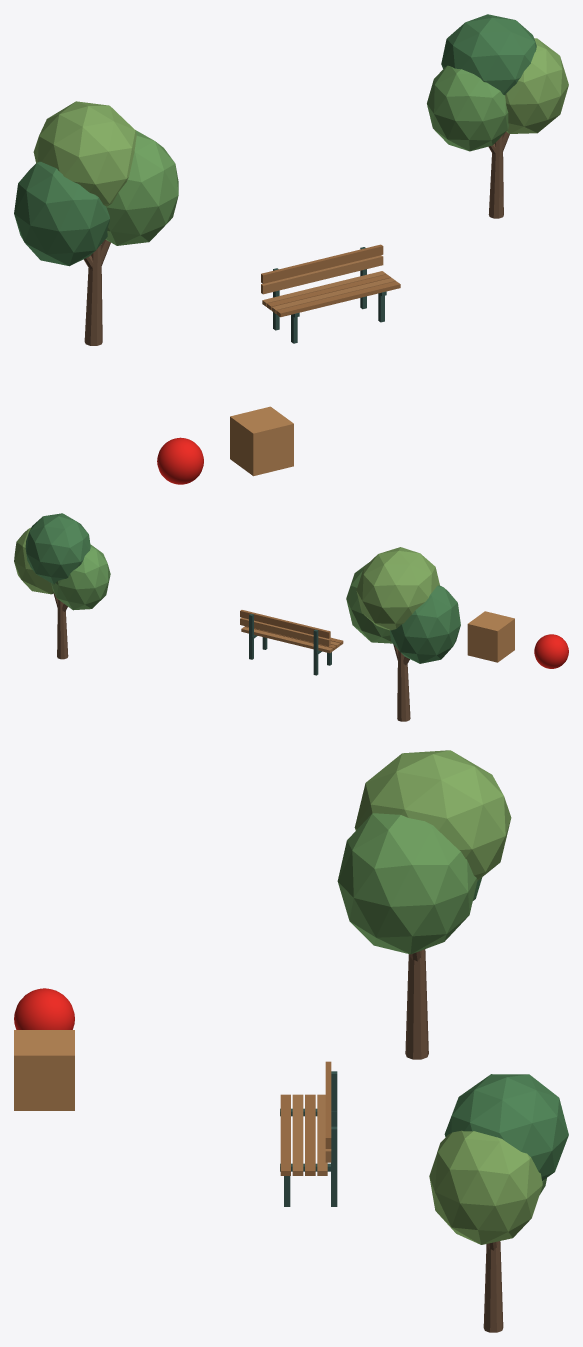
The picture shows the model from 3 angles, top to bottom: view 1: azimuth 30°, elevation 25°; view 2: azimuth 150°, elevation 25°; view 3: azimuth 270°, elevation 25°; orthographic projection. The views are drawn at different scales.
Visible parts, largest first — view 1: Grove | leaf crown.002, Grove | leaf crown, Grove | leaf crown.001, Grove | leaf crown.003, Grove | leaf crown.005, Grove | leaf crown.004, Ramp, Ball, Grove | tapered limb, Bench | back slat.001, Bench | back slat, Bench | seat slat (+4 smaller); view 2: Grove | leaf crown.002, Grove | leaf crown, Grove | leaf crown.005, Grove | leaf crown.003, Ramp, Grove | leaf crown.001, Grove | leaf crown.004, Ball, Grove | tapered limb, Bench | back slat.001, Bench | back slat, Grove | tapered limb.003 (+1 smaller); view 3: Grove | leaf crown.001, Grove | leaf crown.002, Grove | leaf crown.004, Grove | leaf crown.005, Ramp, Grove | tapered limb, Ball, Grove | tapered limb.003, Bench | seat slat.001, Bench | seat slat.002, Bench | seat slat, Bench | seat slat.003.
Part boxes in pixels (x1,y1,x2,y2): Grove | leaf crown.002: [33, 101, 136, 206]; Grove | leaf crown: [14, 161, 109, 266]; Grove | leaf crown.001: [105, 130, 178, 245]; Grove | leaf crown.003: [427, 65, 508, 151]; Grove | leaf crown.005: [441, 14, 536, 95]; Grove | leaf crown.004: [505, 38, 568, 133]; Ramp: [230, 406, 293, 476]; Ball: [157, 437, 203, 484]; Grove | tapered limb: [84, 244, 102, 345]; Bench | back slat.001: [261, 244, 383, 283]; Bench | back slat: [261, 255, 383, 294]; Bench | seat slat: [276, 281, 400, 317]; Grove | leaf crown.002: [356, 547, 439, 630]; Grove | leaf crown: [390, 585, 460, 663]; Grove | leaf crown.005: [25, 513, 90, 584]; Grove | leaf crown.003: [51, 544, 110, 610]; Ramp: [467, 611, 514, 662]; Grove | leaf crown.001: [346, 562, 392, 643]; Grove | leaf crown.004: [14, 527, 53, 594]; Ball: [534, 634, 568, 668]; Grove | tapered limb: [397, 650, 410, 721]; Bench | back slat.001: [240, 610, 330, 638]; Bench | back slat: [240, 617, 330, 646]; Grove | tapered limb.003: [57, 599, 68, 659]; Grove | leaf crown.001: [337, 813, 477, 954]; Grove | leaf crown.002: [354, 750, 511, 880]; Grove | leaf crown.004: [429, 1130, 542, 1244]; Grove | leaf crown.005: [444, 1074, 568, 1180]; Ramp: [14, 1030, 74, 1110]; Grove | tapered limb: [405, 949, 428, 1059]; Ball: [14, 988, 74, 1029]; Grove | tapered limb.003: [483, 1241, 503, 1332]; Bench | seat slat.001: [292, 1094, 303, 1175]; Bench | seat slat.002: [305, 1094, 315, 1175]; Bench | seat slat: [280, 1094, 290, 1175]; Bench | seat slat.003: [317, 1094, 327, 1175].
Size of the model in its own units: 14.07 by 5.94 by 9.09.
